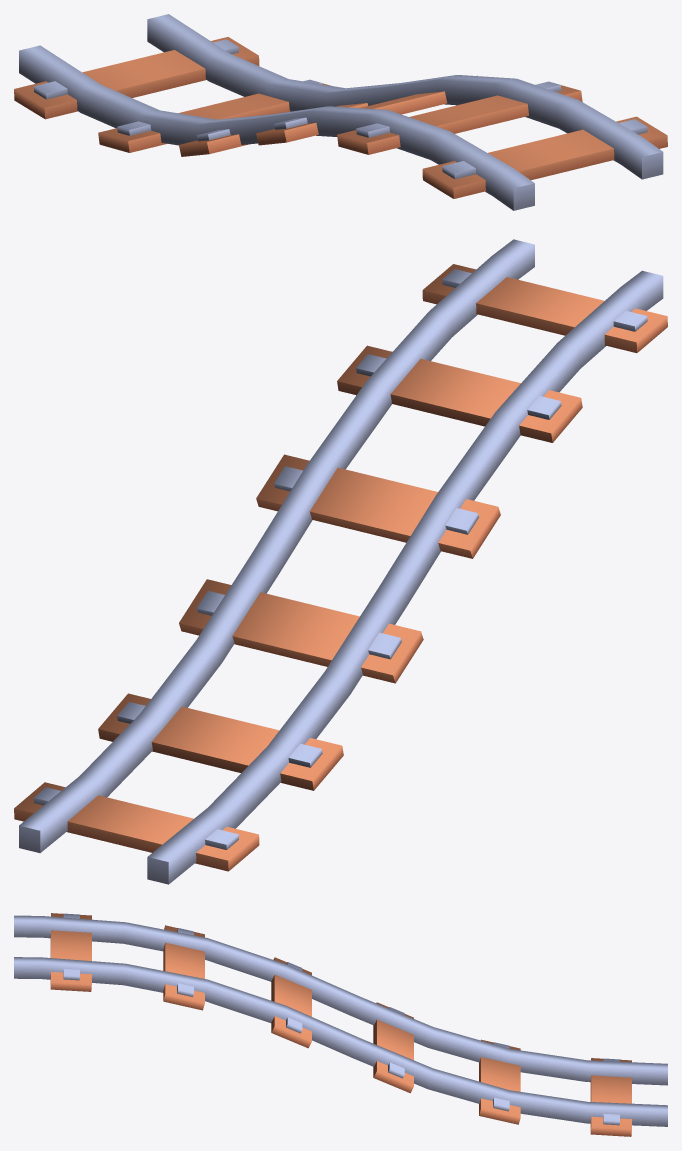
The model's file is kenney-train-railroad-straight-hill-complete.glb.
3 views of the same model, one above another, from view 1: azimuth 30°, elevation 25°; view 2: azimuth 150°, elevation 25°; view 3: azimuth 270°, elevation 25° (orthographic). The views are drawn at different scales.
Parts seen in each view (by area): view 1: railroad-straight-hill-complete; view 2: railroad-straight-hill-complete; view 3: railroad-straight-hill-complete.
Part boxes in pixels (bbox=[...]): railroad-straight-hill-complete: bbox=[14, 14, 667, 210]; railroad-straight-hill-complete: bbox=[14, 239, 667, 884]; railroad-straight-hill-complete: bbox=[14, 913, 667, 1136].
Bounding box in the file's own units: 1 × 1.1 × 4.
1 material, 1 textured.
